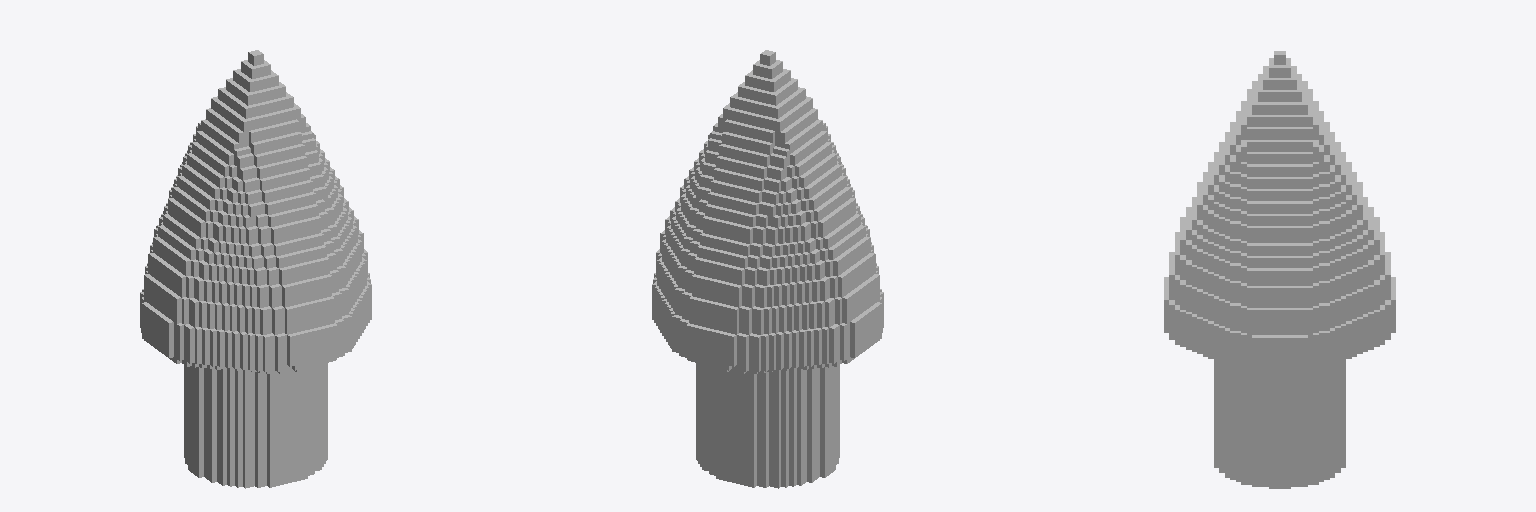
File: suspicious tree.obj
3 renders of one model, left to right at view 1: azimuth 30°, elevation 25°; view 2: azimuth 150°, elevation 25°; view 3: azimuth 270°, elevation 25°, orthographic.
Visible parts, largest first — view 1: object 1; view 2: object 1; view 3: object 1.
Boxes of the visible parts, <box> form: object 1: <box>140,50,371,488</box>; object 1: <box>652,50,883,488</box>; object 1: <box>1164,51,1395,488</box>.
Size of the model in its own units: 4.2 by 8.1 by 4.2.